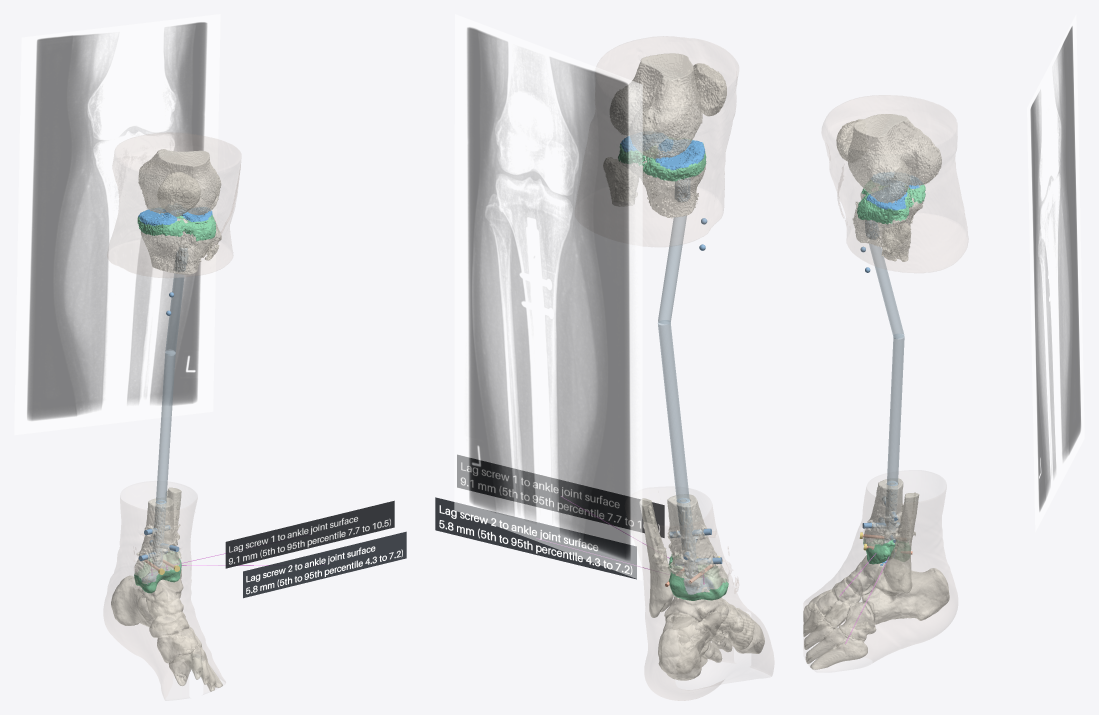
The picture shows the model from 3 angles, left to right: view 1: azimuth 30°, elevation 25°; view 2: azimuth 150°, elevation 25°; view 3: azimuth 270°, elevation 25°; orthographic projection. The views are drawn at different scales.
Visible parts, largest first — view 1: radiograph, skin, implant_8, tibia, implant_16, tarsal, femur, nail_modelled, patella, metatarsal, capsule_band_knee, nail (+3 smaller); view 2: radiograph, skin, femur, implant_17, implant_9, tibia, tarsal, nail_modelled, fibula, articular_surface_knee, nail, patella (+3 smaller); view 3: radiograph, skin, tarsal, femur, tibia, fibula, nail_modelled, metatarsal, capsule_band_knee, articular_surface_knee, nail, capsule_band_ankle (+1 smaller).
Boxes of the visible parts, x1,y1,x2,y2 form: radiograph: [14, 14, 220, 434]; skin: [104, 133, 240, 698]; implant_8: [225, 500, 394, 568]; tibia: [134, 213, 214, 584]; implant_16: [243, 531, 406, 598]; tarsal: [111, 573, 201, 663]; femur: [138, 149, 221, 215]; nail_modelled: [156, 273, 184, 503]; patella: [157, 172, 200, 216]; metatarsal: [168, 645, 222, 691]; capsule_band_knee: [137, 212, 215, 241]; nail: [152, 247, 188, 567]; radiograph: [454, 14, 642, 580]; skin: [597, 36, 773, 700]; femur: [610, 53, 702, 158]; implant_17: [435, 497, 636, 579]; implant_9: [457, 455, 664, 537]; tibia: [618, 156, 728, 599]; tarsal: [658, 578, 754, 680]; nail_modelled: [658, 215, 689, 503]; fibula: [603, 157, 673, 617]; articular_surface_knee: [620, 133, 704, 170]; nail: [675, 177, 697, 578]; patella: [693, 63, 726, 116]; radiograph: [1027, 15, 1084, 531]; skin: [804, 95, 968, 662]; tarsal: [808, 555, 949, 641]; femur: [847, 114, 941, 203]; tibia: [852, 187, 924, 564]; fibula: [881, 222, 919, 593]; nail_modelled: [869, 243, 904, 485]; metatarsal: [803, 604, 867, 669]; capsule_band_knee: [857, 180, 925, 224]; articular_surface_knee: [866, 172, 922, 210]; nail: [865, 220, 897, 542]; capsule_band_ankle: [863, 539, 910, 564].
Size of the model in its own units: 0.3063 by 0.6025 by 0.2497.
15 materials, 3 textured.
